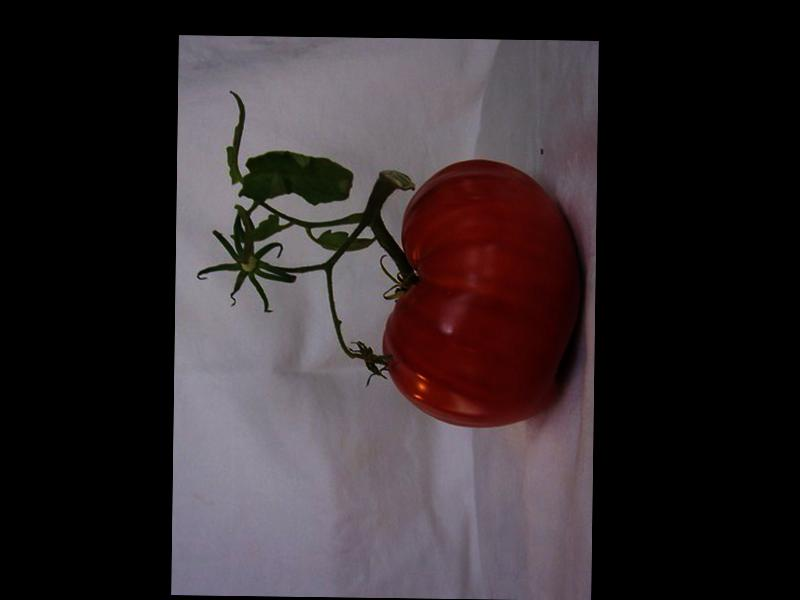Tomato: (382, 157, 584, 429)
